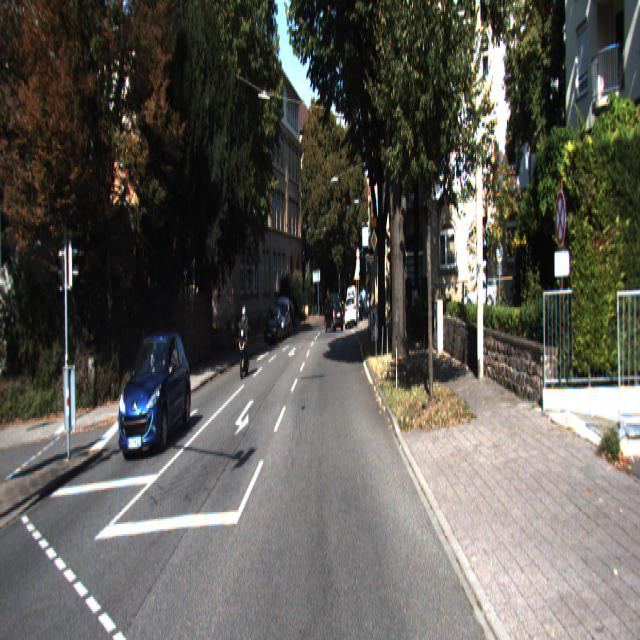Car: (115, 328, 192, 464), (236, 302, 252, 376), (263, 306, 282, 348), (324, 297, 344, 333), (344, 294, 356, 330)
